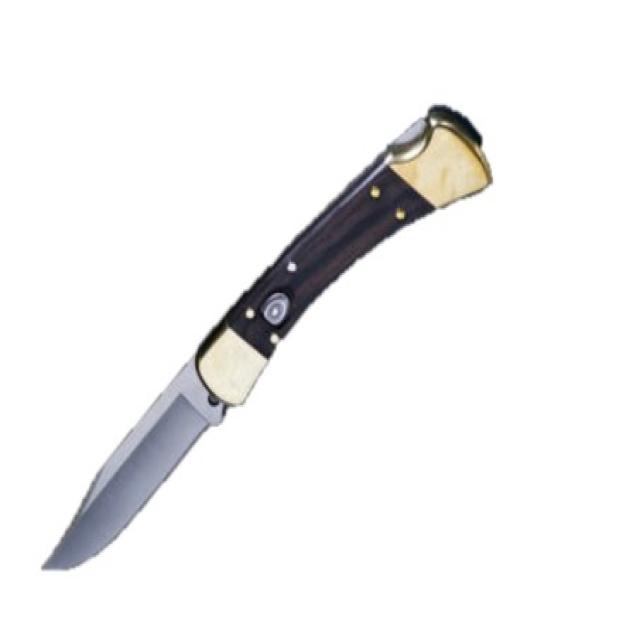knife: (41, 89, 499, 582)
